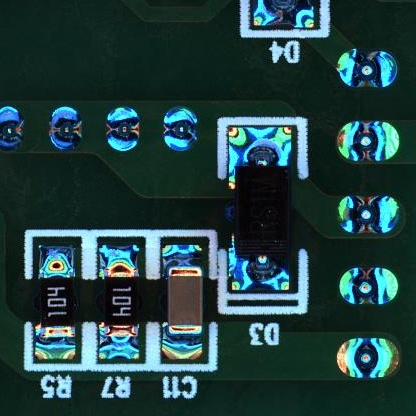spot: (336, 194, 402, 234), (336, 338, 400, 378), (336, 121, 399, 161), (336, 268, 399, 307), (337, 47, 397, 86), (162, 107, 199, 152), (105, 105, 141, 151), (51, 106, 81, 149), (1, 107, 20, 150)
